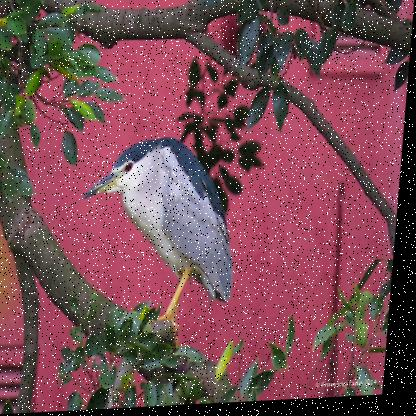Burung: (77, 138, 251, 334)
